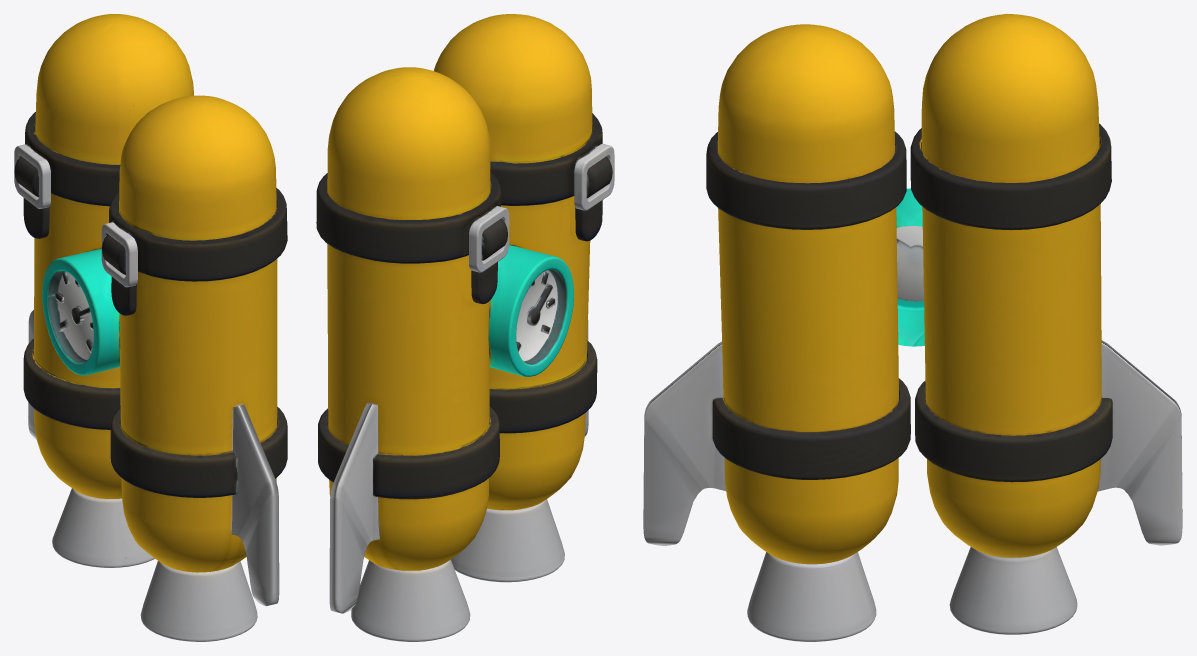
Rendered from prop_jetpack.glb.
The picture shows the model from 3 angles, left to right: view 1: azimuth 30°, elevation 25°; view 2: azimuth 150°, elevation 25°; view 3: azimuth 270°, elevation 25°; orthographic projection. The views are drawn at different scales.
Parts seen in each view (by area): view 1: tripo_4b7f69a8_a5e4_468a_9a39_319df9b49100; view 2: tripo_4b7f69a8_a5e4_468a_9a39_319df9b49100; view 3: tripo_4b7f69a8_a5e4_468a_9a39_319df9b49100.
Boxes of the visible parts, left/top/right/bottom form: tripo_4b7f69a8_a5e4_468a_9a39_319df9b49100: left=14, top=14, right=287, bottom=641; tripo_4b7f69a8_a5e4_468a_9a39_319df9b49100: left=316, top=14, right=614, bottom=641; tripo_4b7f69a8_a5e4_468a_9a39_319df9b49100: left=643, top=14, right=1182, bottom=641.
Size of the model in its own units: 0.3423 by 0.9995 by 0.8188.
1 material, 1 textured.
